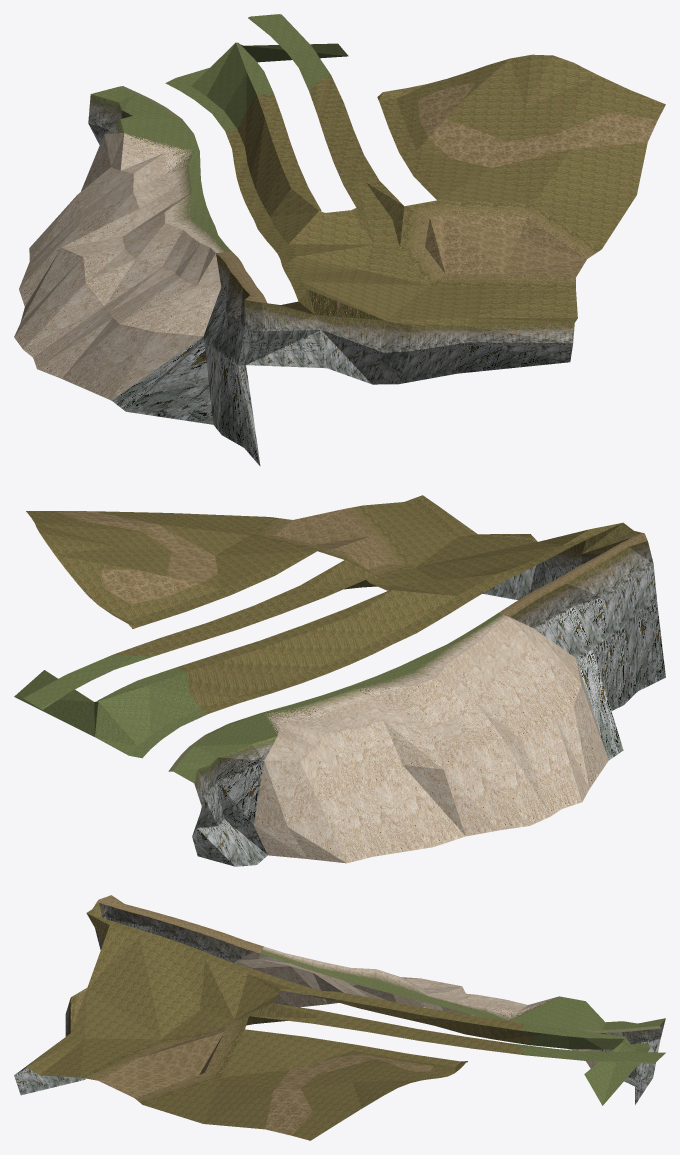
Rendered from lodcuntw61.obj.
3 renders of one model, top to bottom at view 1: azimuth 30°, elevation 25°; view 2: azimuth 150°, elevation 25°; view 3: azimuth 270°, elevation 25°, orthographic. The views are drawn at different scales.
Visible parts, largest first — view 1: lodcuntw61; view 2: lodcuntw61; view 3: lodcuntw61.
Boxes of the visible parts, x1,y1,x2,y2 form: lodcuntw61: [14, 14, 665, 466]; lodcuntw61: [14, 495, 665, 866]; lodcuntw61: [14, 895, 665, 1140].
Size of the model in its own units: 236 by 61.92 by 249.
11 materials, 11 textured.
